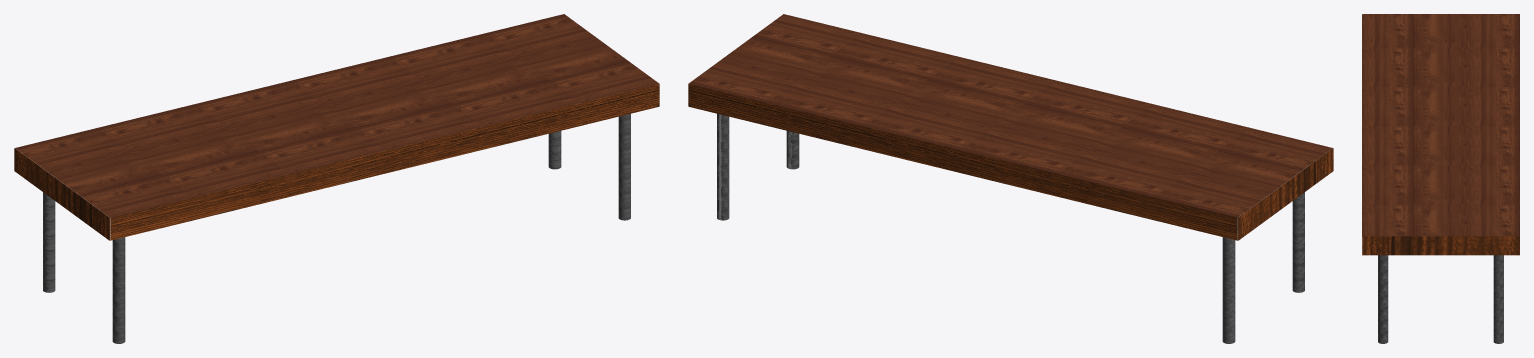
Rendered from Desk.FBX.
3 renders of one model, left to right at view 1: azimuth 30°, elevation 25°; view 2: azimuth 150°, elevation 25°; view 3: azimuth 270°, elevation 25°, orthographic. The views are drawn at different scales.
Parts seen in each view (by area): view 1: Desk; view 2: Desk; view 3: Desk.
Boxes of the visible parts, bbox=[...] form: Desk: bbox=[14, 14, 659, 343]; Desk: bbox=[688, 14, 1333, 343]; Desk: bbox=[1362, 14, 1519, 343].
Size of the model in its own units: 197 by 47.24 by 59.06.
